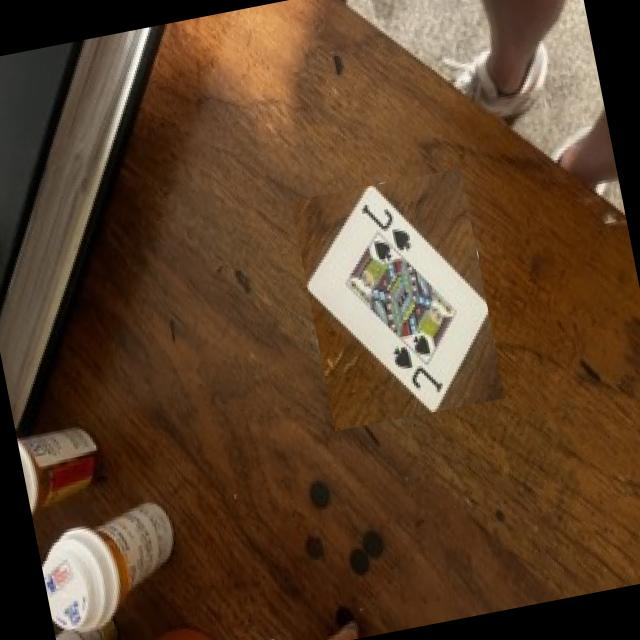Jack of spades: (309, 186, 489, 412)
